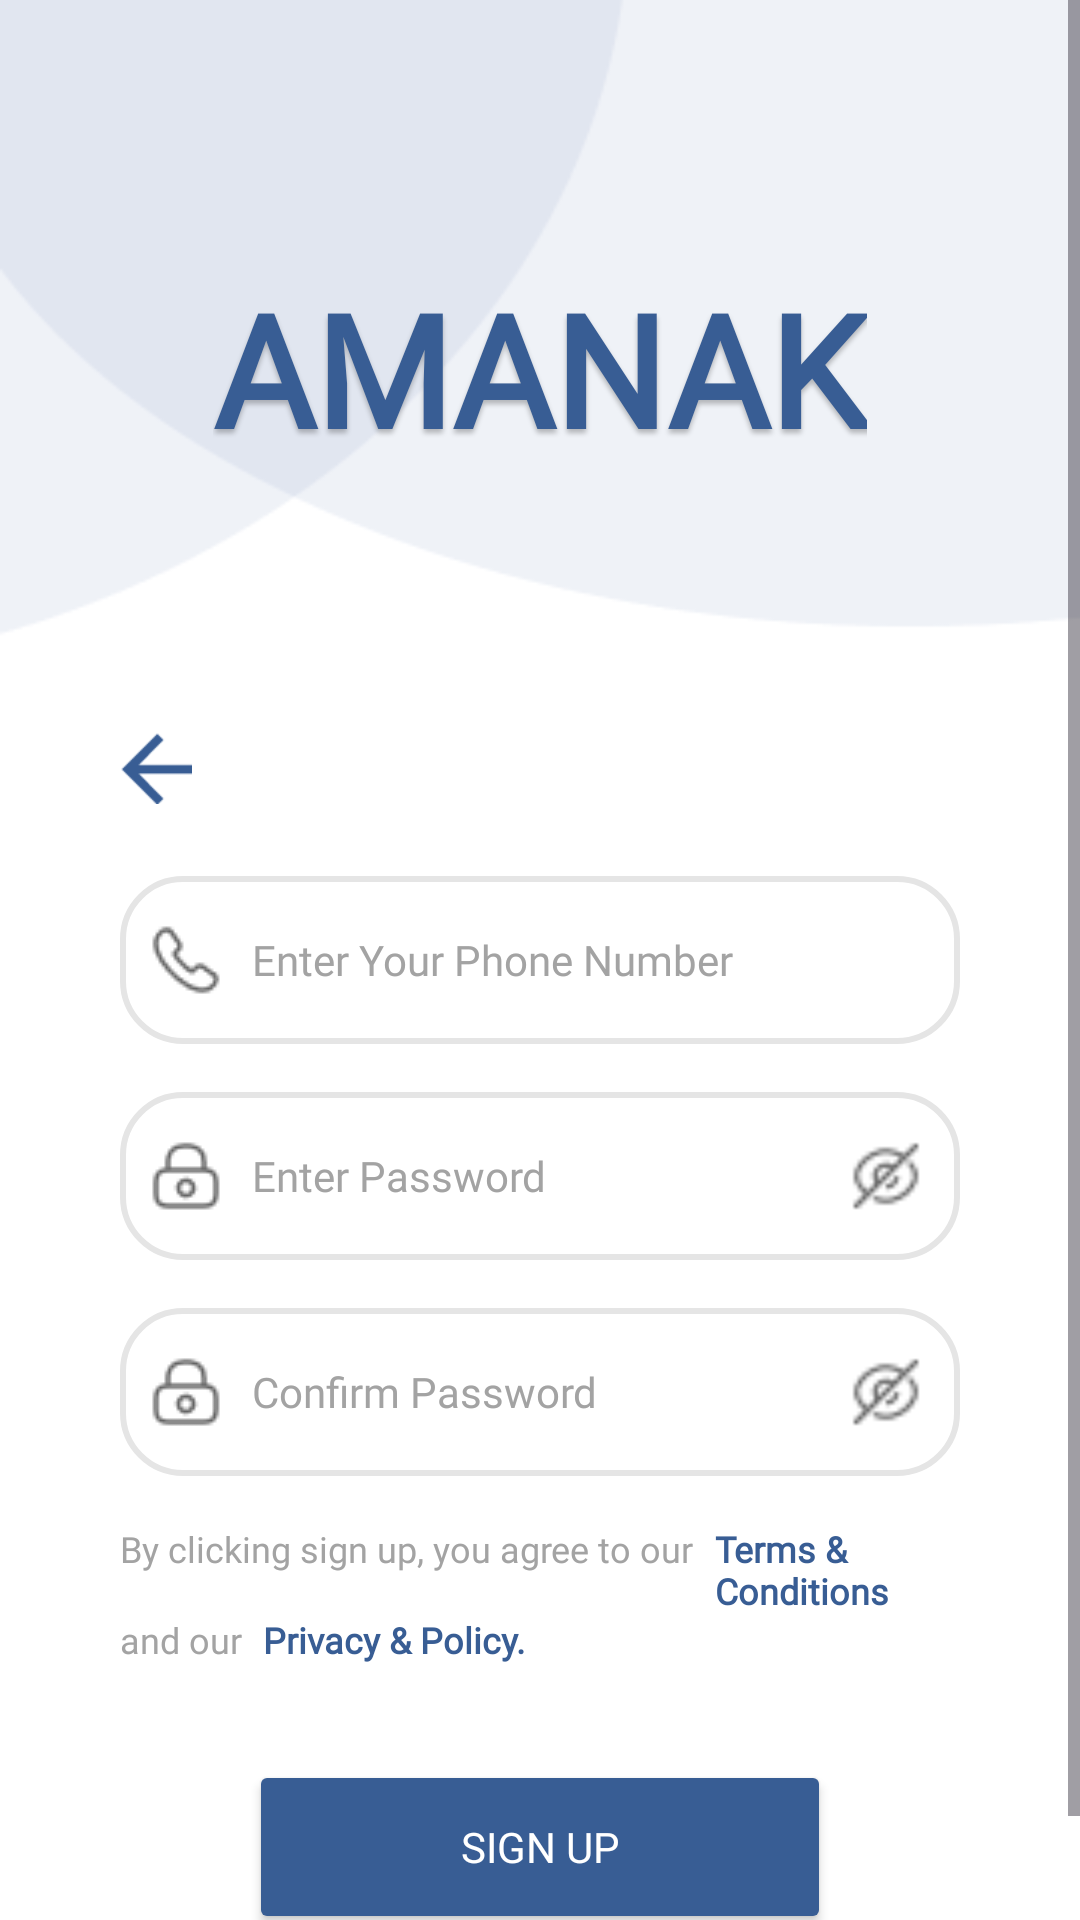

Icons on this 1080w x 1920h Android screen, each with the point to tap as [x,y]:
arrow: [157,769]
eye: [886,1176], [886,1392]
